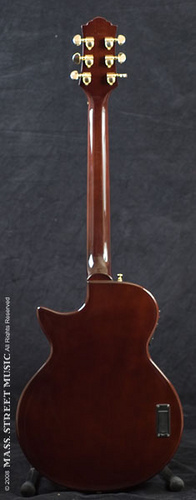guitar: (10, 12, 183, 498)
